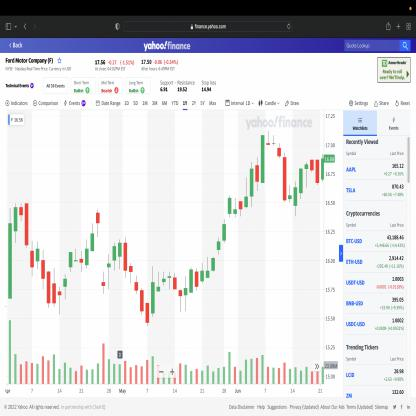Bearish: 3 Black Crows: (134, 272, 150, 330)
